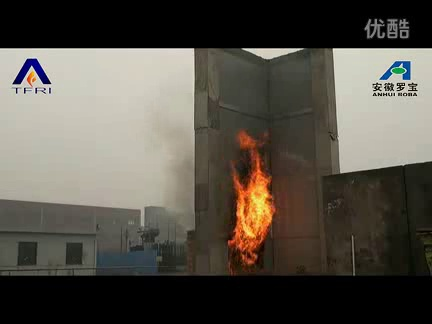fire: (227, 127, 281, 272)
